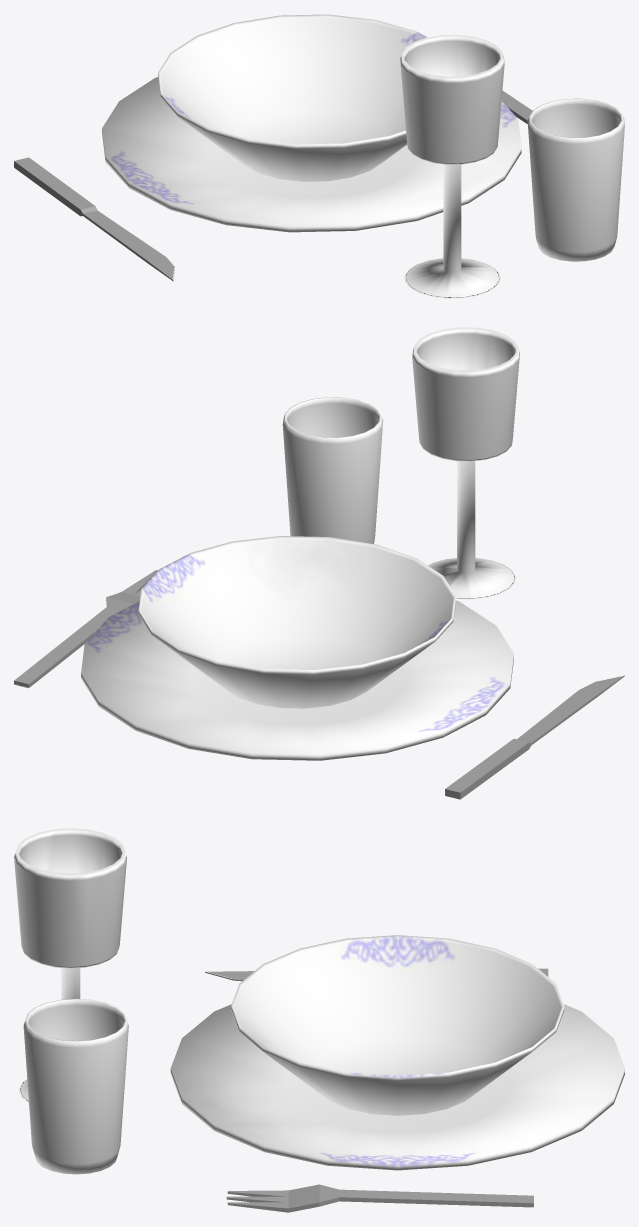
File: PlateSet_vi.fbx
3 renders of one model, top to bottom at view 1: azimuth 30°, elevation 25°; view 2: azimuth 150°, elevation 25°; view 3: azimuth 270°, elevation 25°, orthographic. The views are drawn at different scales.
Visible parts, largest first — view 1: PlateSet; view 2: PlateSet; view 3: PlateSet.
Boxes of the visible parts, <box> form: PlateSet: <box>14,14,624,298</box>; PlateSet: <box>14,327,624,799</box>; PlateSet: <box>14,828,624,1212</box>.
Bounding box in the file's own units: 0.00405 × 0.00192 × 0.00443.
Materials: 1 (1 with a texture image).
